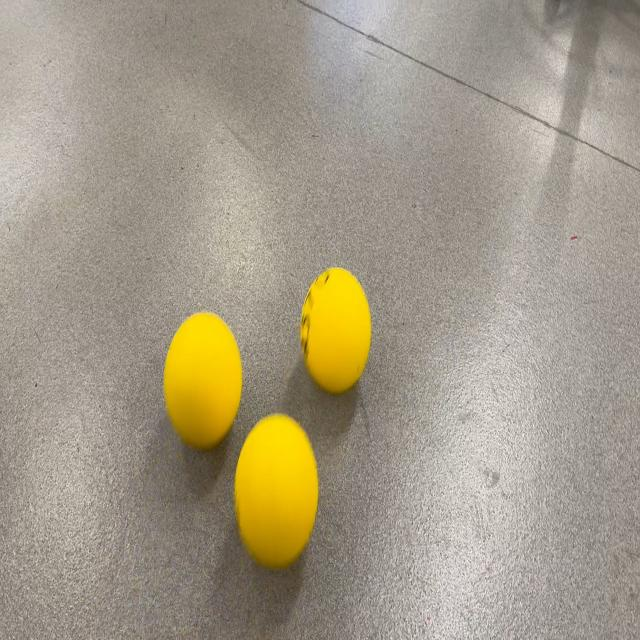Fuel: (234, 411, 318, 569), (163, 311, 242, 451), (300, 266, 372, 393)
